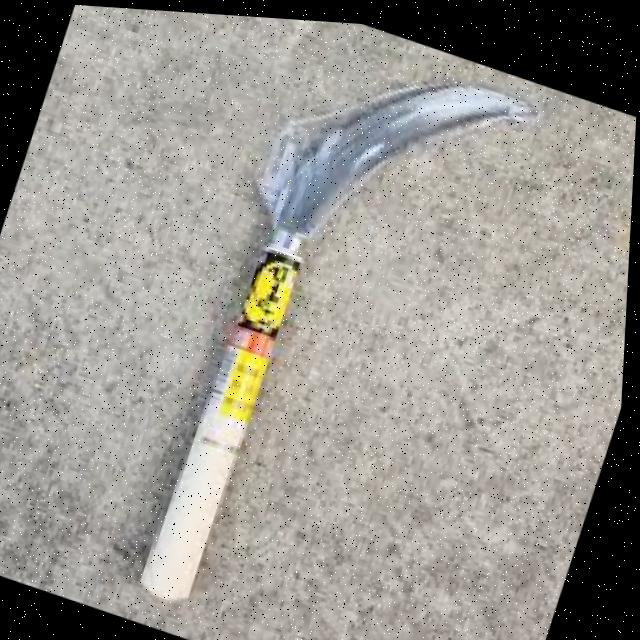sickle: (51, 4, 569, 640)
